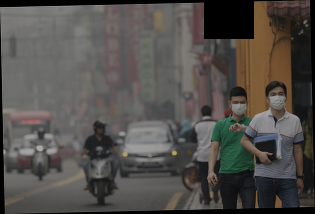with_mask: (268, 89, 286, 111), (230, 98, 249, 118)
